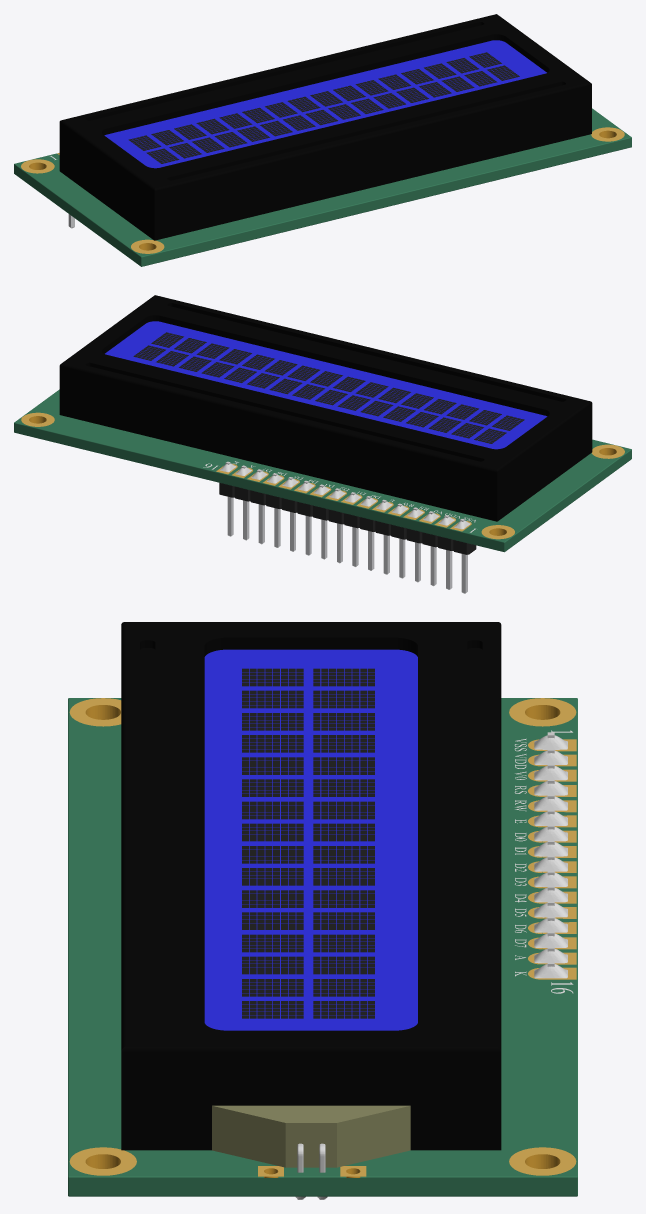
File: display_lcd_16x2.glb
3 views of the same model, one above another, from view 1: azimuth 30°, elevation 25°; view 2: azimuth 150°, elevation 25°; view 3: azimuth 270°, elevation 25° (orthographic). The views are drawn at different scales.
Visible parts, largest first — view 1: plastico_preto-material, pcb_verde-material, display_azul_001-material, CINZA-material, Contato_PCB-material; view 2: plastico_preto-material, pcb_verde-material, display_azul_001-material, CINZA-material, metal_parafuso_020-material, plastico_preto_015-material, metal-material (×2), Contato_PCB-material; view 3: plastico_preto-material, pcb_verde-material, display_azul_001-material, CINZA-material, Material_007-material, metal-material (×2), Contato_PCB-material, metal_amarelo_001-material, plastico_branco-material.
Boxes of the visible parts, x1,y1,x2,y2 form: plastico_preto-material: (59, 14, 591, 240); pcb_verde-material: (14, 108, 631, 266); display_azul_001-material: (104, 40, 546, 168); CINZA-material: (128, 52, 519, 163); Contato_PCB-material: (21, 127, 624, 253); plastico_preto-material: (59, 295, 592, 521); pcb_verde-material: (14, 389, 631, 552); display_azul_001-material: (105, 321, 547, 449); CINZA-material: (133, 332, 524, 443); metal_parafuso_020-material: (227, 496, 467, 593); plastico_preto_015-material: (219, 483, 476, 554); metal-material (×2): (220, 461, 470, 529); Contato_PCB-material: (21, 412, 624, 539); plastico_preto-material: (121, 622, 501, 1150); pcb_verde-material: (68, 698, 577, 1196); display_azul_001-material: (204, 649, 417, 1030); CINZA-material: (242, 668, 374, 1018); Material_007-material: (212, 1105, 410, 1167); metal-material (×2): (295, 732, 567, 1199); Contato_PCB-material: (69, 698, 576, 1176); metal_amarelo_001-material: (85, 705, 560, 1177); plastico_branco-material: (514, 738, 526, 976).
Size of the model in its own units: 0.08 by 0.0189 by 0.036.
